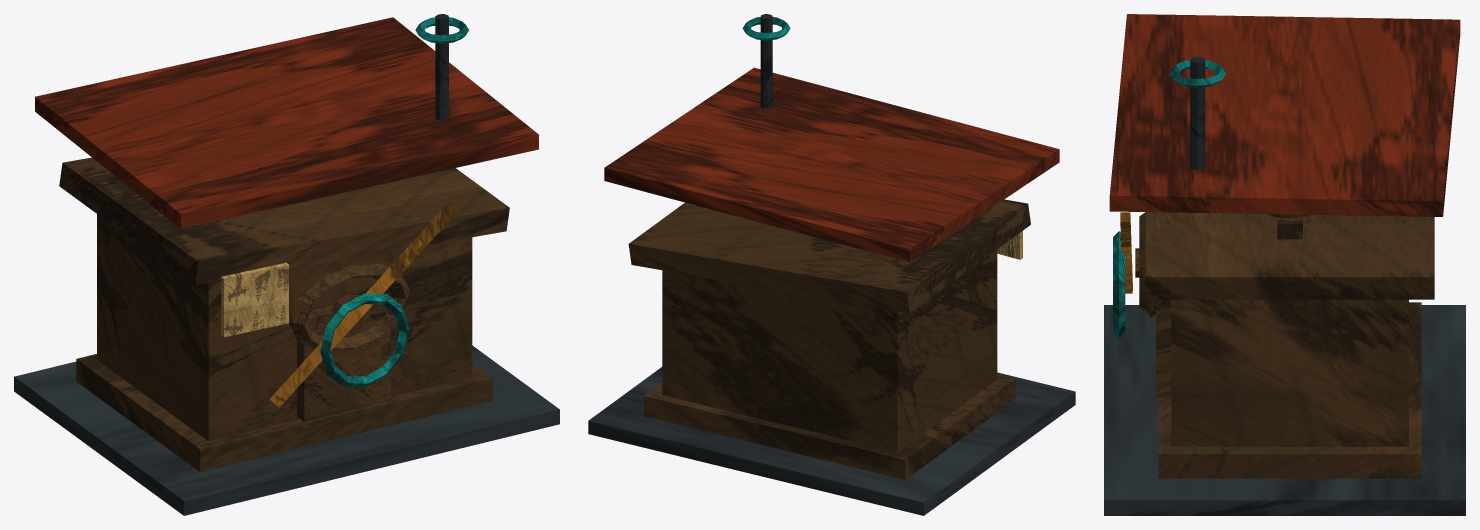
Rendered from ridge-switch-house.glb.
3 views of the same model, side by side, from view 1: azimuth 30°, elevation 25°; view 2: azimuth 150°, elevation 25°; view 3: azimuth 270°, elevation 25° (orthographic). The views are drawn at different scales.
Visible parts, largest first — view 1: ridge-switch-house; view 2: ridge-switch-house; view 3: ridge-switch-house.
Part boxes in pixels (x1,y1,x2,y2): ridge-switch-house: (14, 14, 559, 515); ridge-switch-house: (588, 14, 1075, 515); ridge-switch-house: (1104, 14, 1465, 515).
Bounding box in the file's own units: 7.4 × 7.4 × 5.8.
Materials: 1 (1 with a texture image).
